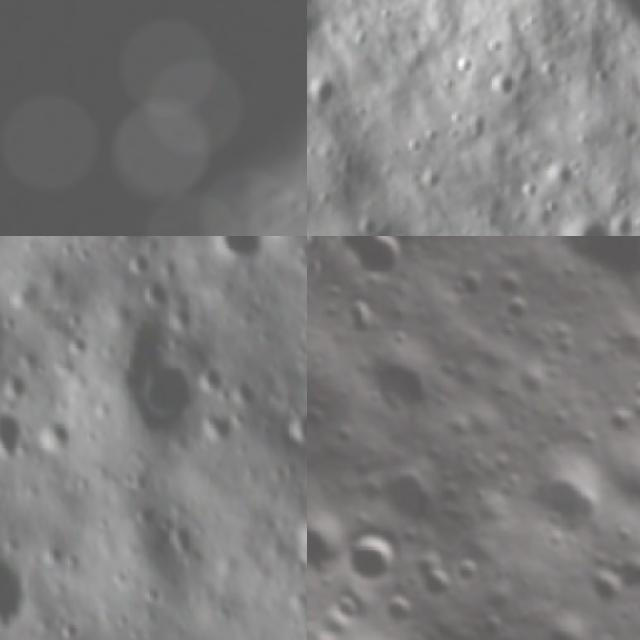crater: (521, 451, 620, 552), (124, 349, 204, 431), (364, 346, 441, 426), (374, 453, 450, 531), (337, 521, 406, 592), (346, 236, 424, 294), (560, 236, 640, 292), (307, 501, 356, 570), (0, 544, 37, 618), (406, 550, 457, 602), (585, 563, 636, 612), (344, 296, 388, 342), (324, 582, 367, 624), (545, 213, 618, 236), (475, 602, 515, 640), (448, 549, 486, 589), (382, 587, 418, 626), (0, 403, 25, 458), (307, 73, 338, 117), (443, 268, 480, 304), (491, 268, 527, 302), (604, 405, 638, 439), (465, 112, 493, 152), (307, 616, 353, 640), (503, 294, 537, 326), (208, 236, 265, 255), (398, 133, 429, 167), (307, 396, 332, 438), (546, 158, 577, 189), (513, 180, 545, 210), (352, 210, 384, 236), (313, 189, 339, 218), (325, 278, 352, 305), (497, 316, 524, 342), (452, 50, 478, 76), (588, 65, 615, 88), (352, 454, 374, 478), (436, 73, 458, 94), (484, 36, 504, 59), (424, 128, 444, 148), (447, 108, 467, 128), (443, 128, 465, 144), (307, 16, 320, 41), (631, 398, 640, 427), (307, 40, 313, 59)
